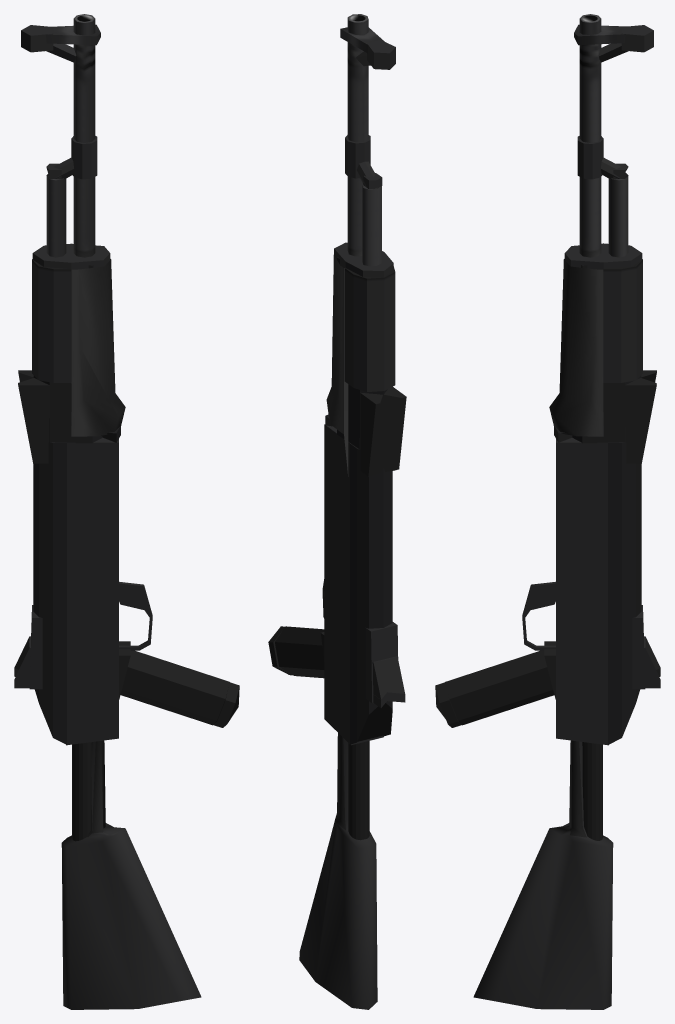
Rendered from RK62_NoMagazine.fbx.
The picture shows the model from 3 angles, left to right: view 1: azimuth 90°, elevation 25°; view 2: azimuth 210°, elevation 25°; view 3: azimuth 270°, elevation 25°; orthographic projection.
Parts seen in each view (by area): view 1: node_01ad04d0_9ae3_4723_a41a_f70a8fdbbab7_mesh0; view 2: node_01ad04d0_9ae3_4723_a41a_f70a8fdbbab7_mesh0; view 3: node_01ad04d0_9ae3_4723_a41a_f70a8fdbbab7_mesh0.
Part boxes in pixels (bbox=[...]): node_01ad04d0_9ae3_4723_a41a_f70a8fdbbab7_mesh0: bbox=[14, 14, 239, 1009]; node_01ad04d0_9ae3_4723_a41a_f70a8fdbbab7_mesh0: bbox=[268, 14, 406, 1009]; node_01ad04d0_9ae3_4723_a41a_f70a8fdbbab7_mesh0: bbox=[435, 14, 660, 1009].
Bounding box in the file's own units: 0.0245 × 0.5551 × 0.1148.
